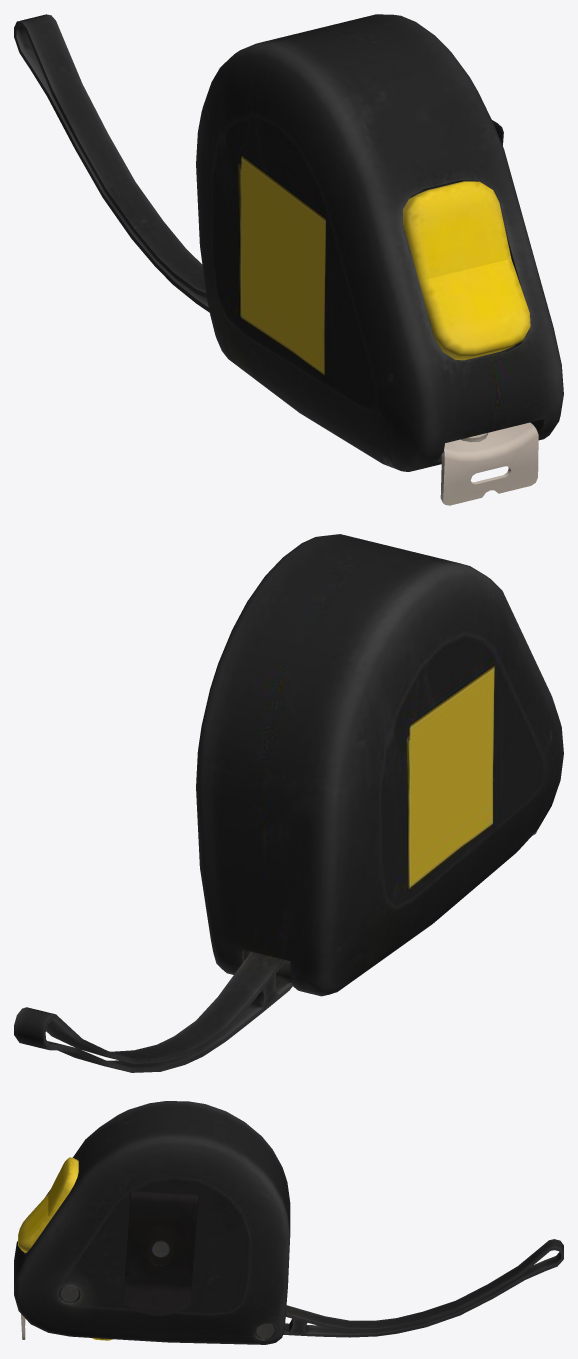
The model's file is tape.glb.
The picture shows the model from 3 angles, top to bottom: view 1: azimuth 30°, elevation 25°; view 2: azimuth 150°, elevation 25°; view 3: azimuth 270°, elevation 25°; orthographic projection. The views are drawn at different scales.
Visible parts, largest first — view 1: measuring_tape_01; view 2: measuring_tape_01; view 3: measuring_tape_01.
Boxes of the visible parts, box(x1,y1,x2,y2) form: measuring_tape_01: box(14, 14, 563, 505); measuring_tape_01: box(14, 534, 563, 1072); measuring_tape_01: box(14, 1101, 563, 1344).
Bounding box in the file's own units: 0.0406 × 0.0734 × 0.1694.
1 material, 1 textured.
